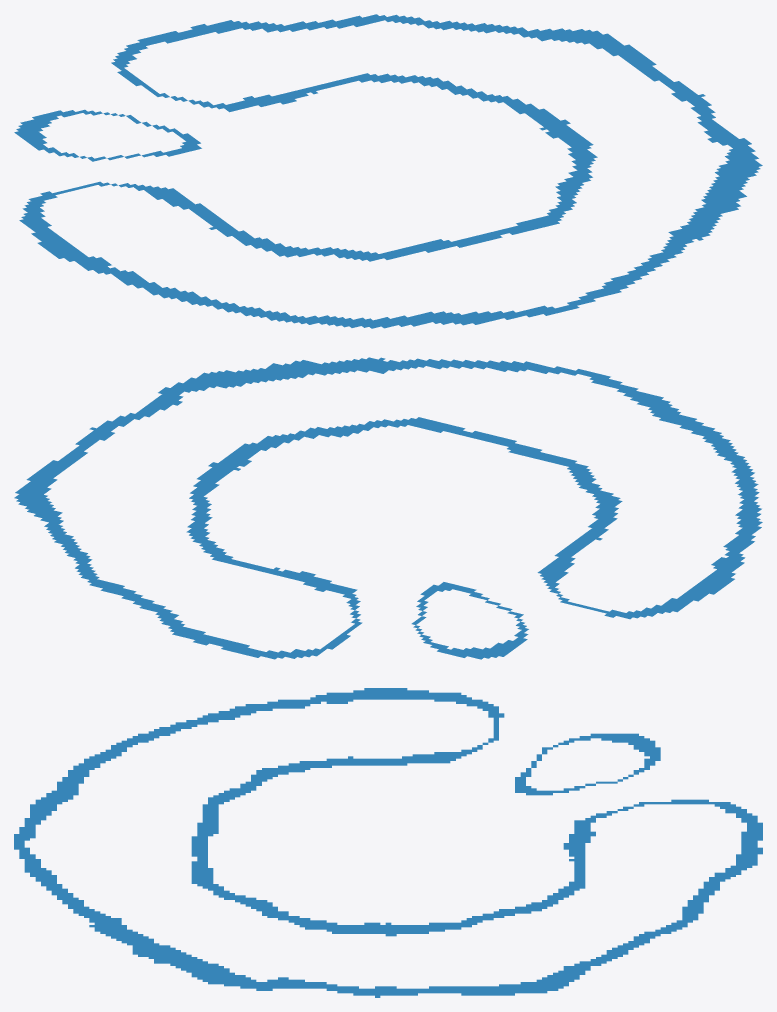
File: Isl-atoll1-PlaceForWaterObjects.fbx
3 views of the same model, one above another, from view 1: azimuth 30°, elevation 25°; view 2: azimuth 150°, elevation 25°; view 3: azimuth 270°, elevation 25° (orthographic). The views are drawn at different scales.
Parts seen in each view (by area): view 1: Isl-atoll1-PlaceForWaterObjects; view 2: Isl-atoll1-PlaceForWaterObjects; view 3: Isl-atoll1-PlaceForWaterObjects.
Part boxes in pixels (<box>): Isl-atoll1-PlaceForWaterObjects: <box>14,14,762,328</box>; Isl-atoll1-PlaceForWaterObjects: <box>14,357,762,659</box>; Isl-atoll1-PlaceForWaterObjects: <box>14,688,762,997</box>.
Bounding box in the file's own units: 136 × 0 × 139.
